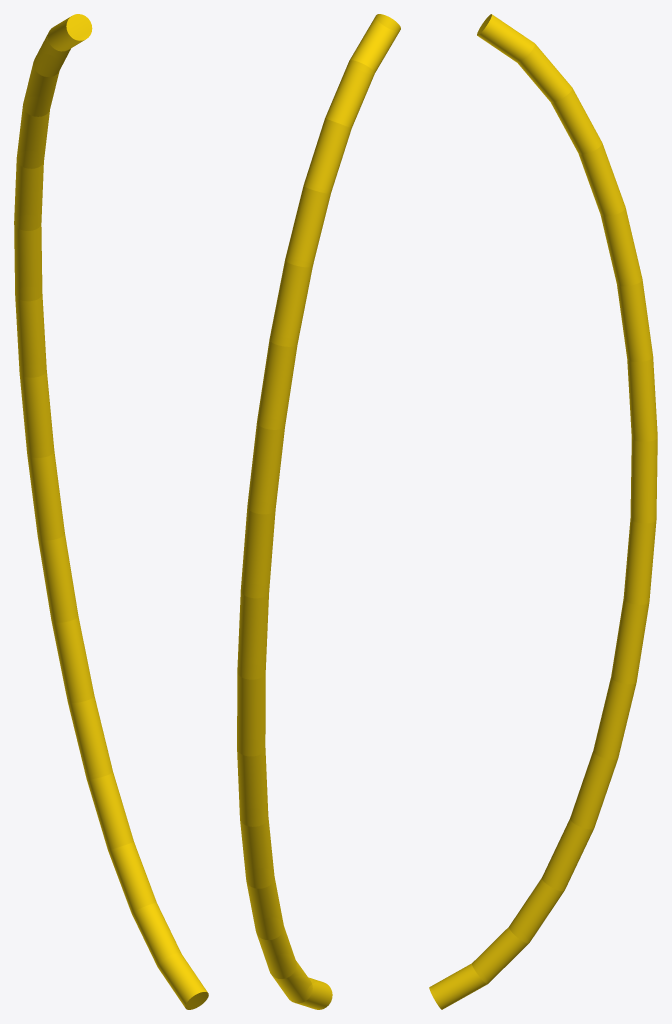
The model's file is Event_420094457_track_64.fbx.
3 renders of one model, left to right at view 1: azimuth 30°, elevation 25°; view 2: azimuth 150°, elevation 25°; view 3: azimuth 270°, elevation 25°, orthographic. The views are drawn at different scales.
Parts seen in each view (by area): view 1: Model; view 2: Model; view 3: Model.
Part boxes in pixels (x1,y1,x2,y2): Model: (14, 14, 208, 1009); Model: (237, 14, 400, 1009); Model: (429, 14, 657, 1009).
Bounding box in the file's own units: 0.1944 × 1.6 × 0.3488.
